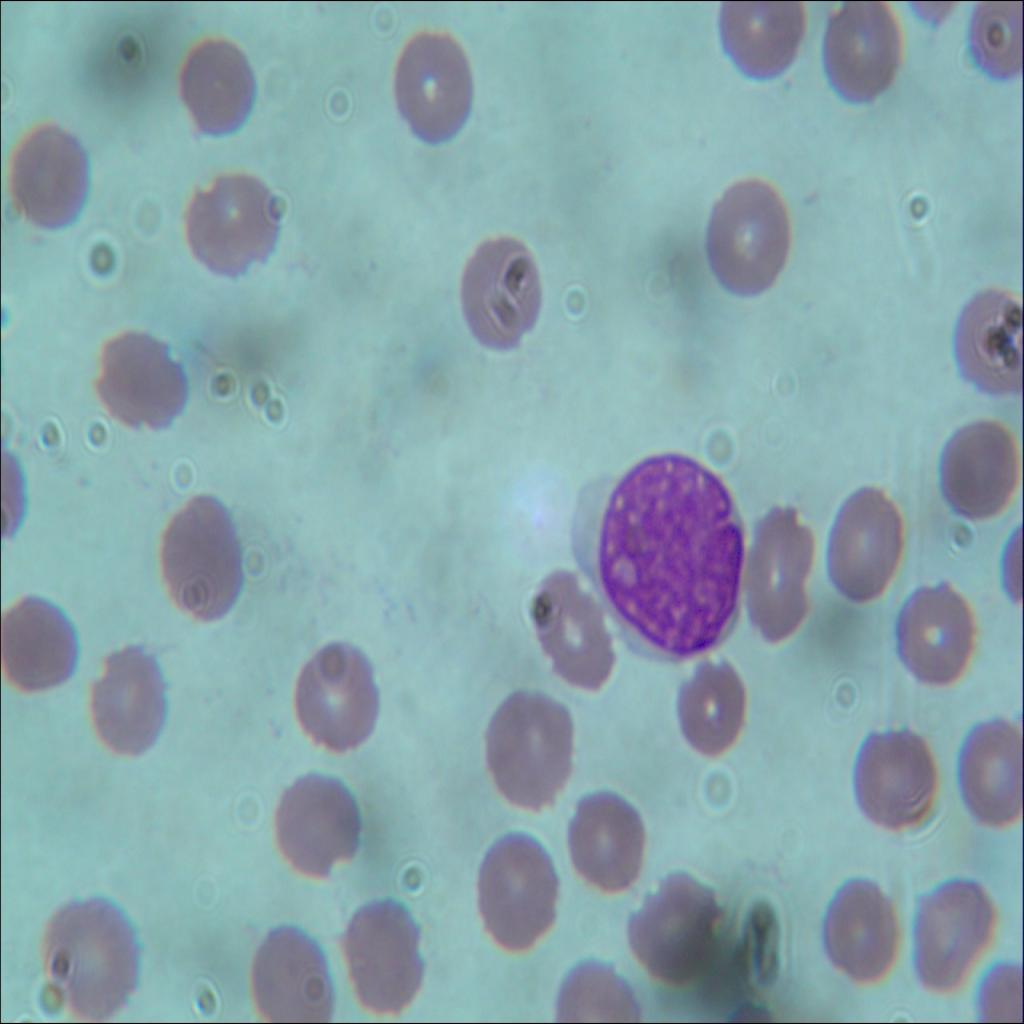Eritrosit: (729, 492, 826, 648), (480, 672, 578, 823), (148, 481, 243, 634), (614, 850, 718, 986), (31, 895, 139, 1022), (382, 17, 478, 152), (450, 225, 544, 361), (178, 171, 284, 290), (694, 180, 794, 305), (266, 758, 368, 874), (88, 315, 184, 435), (810, 1, 908, 118), (293, 632, 381, 758), (849, 714, 939, 835), (826, 482, 906, 616), (336, 889, 424, 1010), (468, 838, 558, 955), (930, 408, 1024, 520), (86, 639, 168, 767), (0, 118, 94, 228), (532, 564, 618, 684), (250, 903, 334, 1023), (661, 651, 756, 757), (890, 578, 976, 691), (906, 864, 986, 985), (564, 774, 642, 897), (173, 29, 255, 145), (822, 874, 904, 988), (944, 284, 1023, 391), (958, 710, 1024, 826), (0, 592, 70, 701), (717, 0, 803, 85)
Limfoblast: (571, 444, 743, 658)
